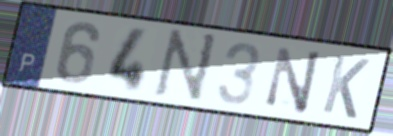3: (216, 40, 262, 106)
4: (104, 25, 151, 96)
6: (54, 20, 102, 86)
K: (319, 52, 373, 122)
N: (150, 27, 221, 106), (264, 44, 324, 117)
